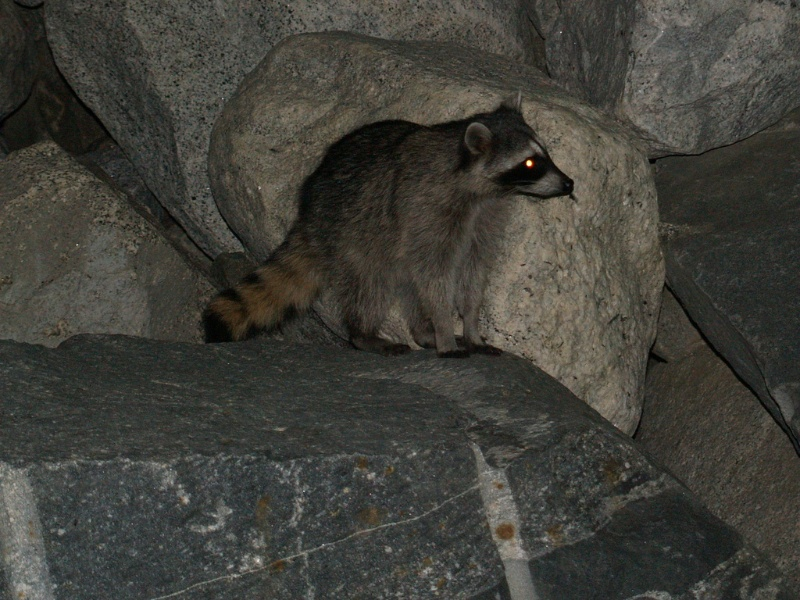raccoon: (198, 87, 578, 365)
